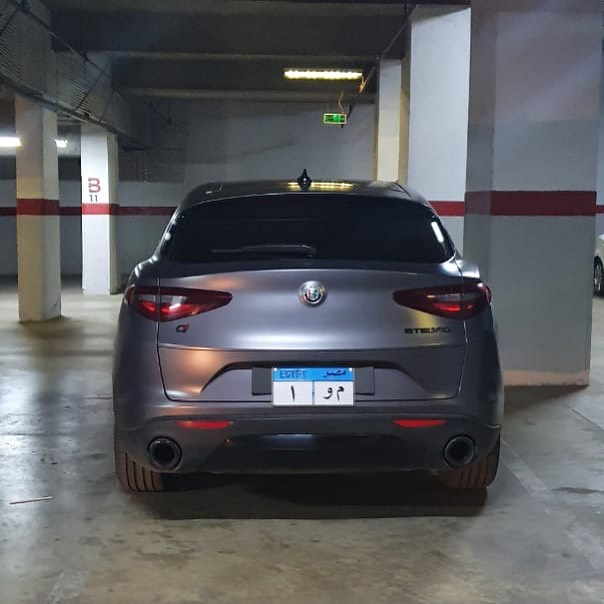carpl: (271, 372, 352, 404)
